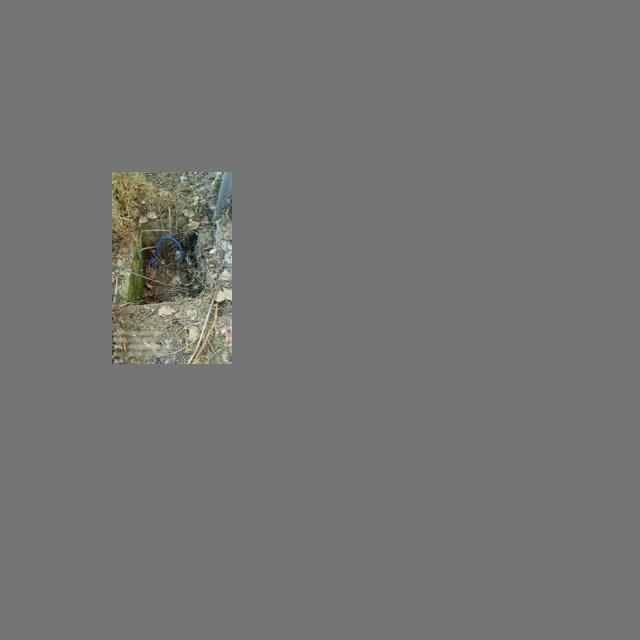lose: (126, 220, 216, 307)
